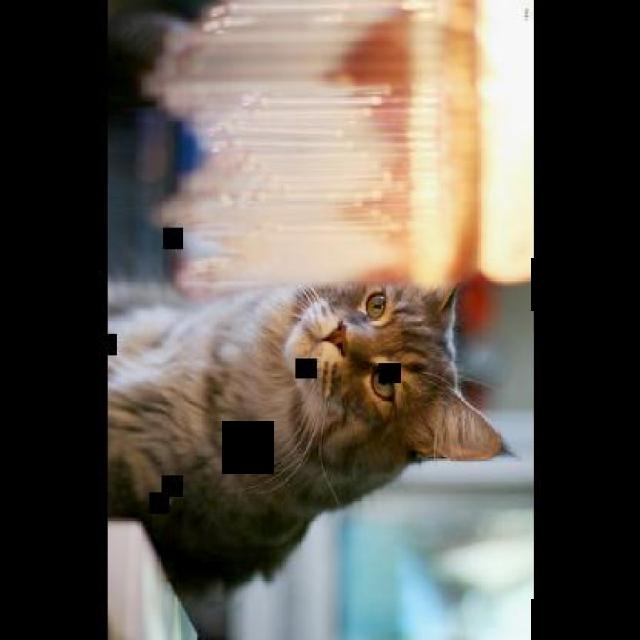unauthorized: (106, 275, 517, 603)
